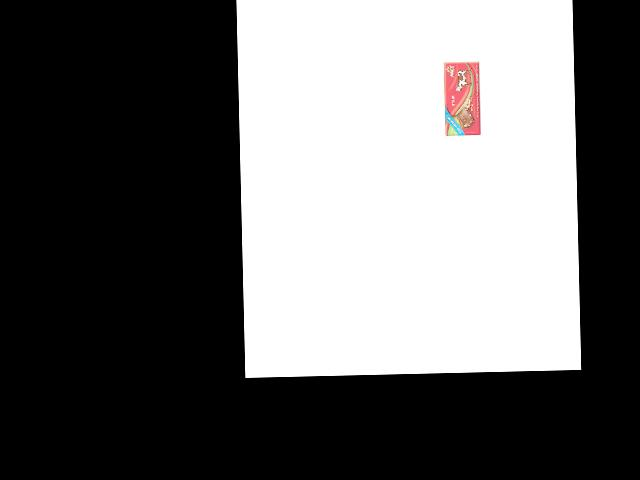chocolate: (443, 58, 480, 135)
